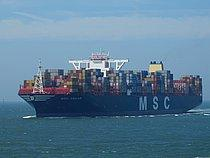Ship: (17, 46, 206, 121)
